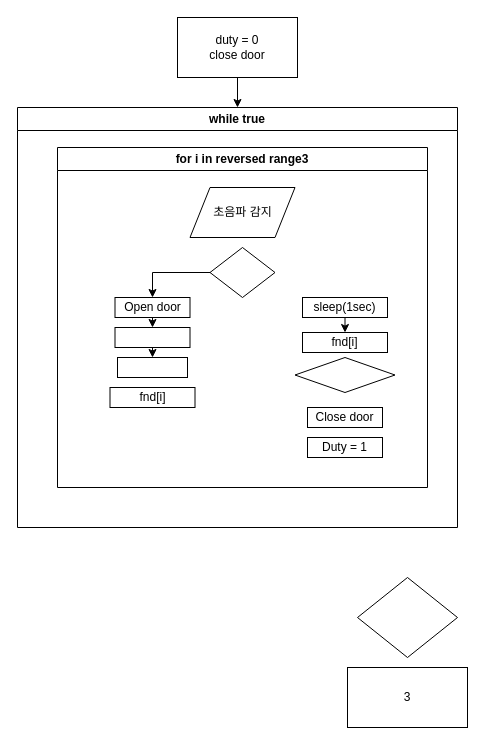
This 485x745 diagram has some shape labels left out. Each missing label, with the centre of its shape:
dis < 10: (x=242, y=272)
dis > 10: (x=407, y=617)
Duty = 10: (x=152, y=337)
i=0: (x=344, y=374)
i=3: (x=152, y=367)
